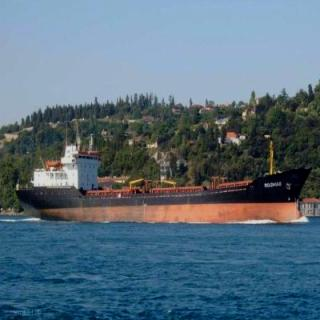Bulk Carrier: (6, 162, 320, 222)
